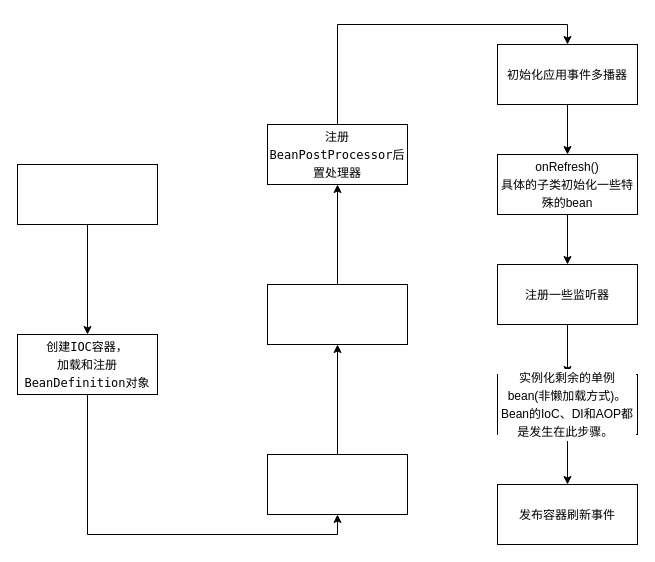
The diagram is 655 pixels wide and 562 high, and some of its shapes have lost their labels. Each missing label, with the centre of its shape:
"刷新前的准备工作" belongs at [87,194].
"对容器进行一些预处理" belongs at [337,484].
"调用BeanFactoryPostProcessor后置处理器" belongs at [337,314].
